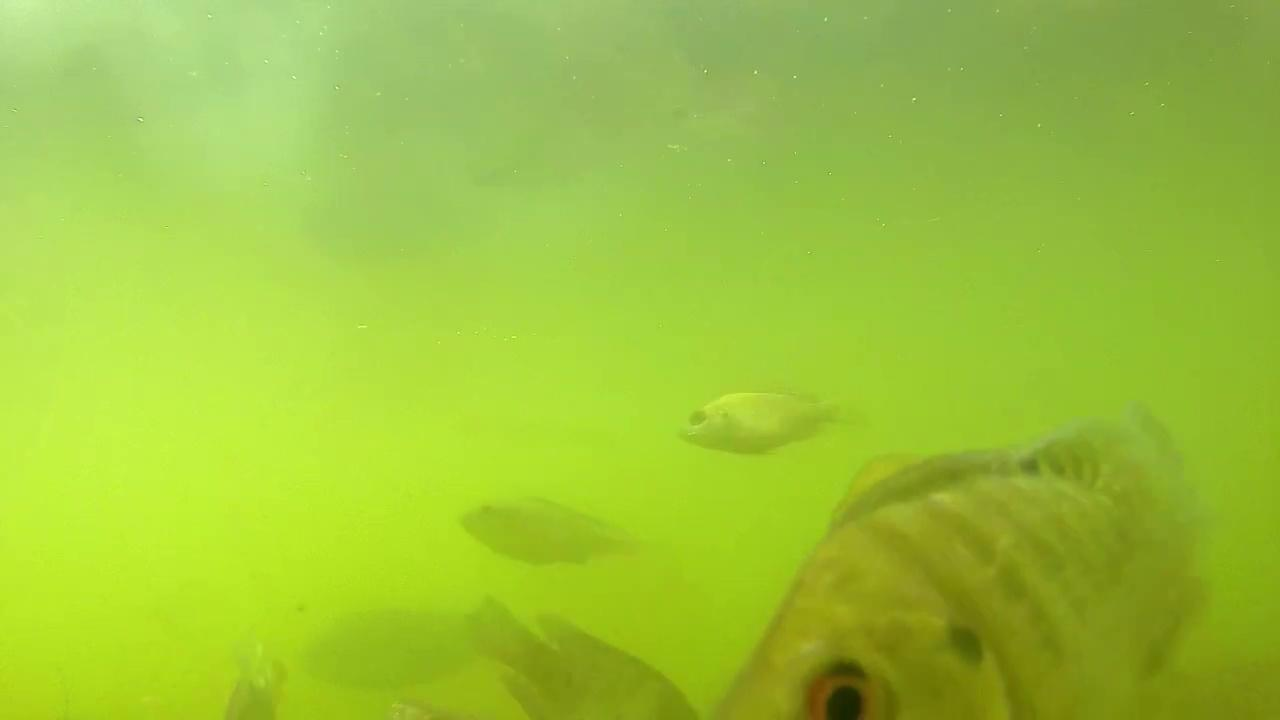Tilapia: (714, 418, 1243, 720), (447, 594, 708, 720), (463, 486, 656, 568), (675, 380, 858, 460)
